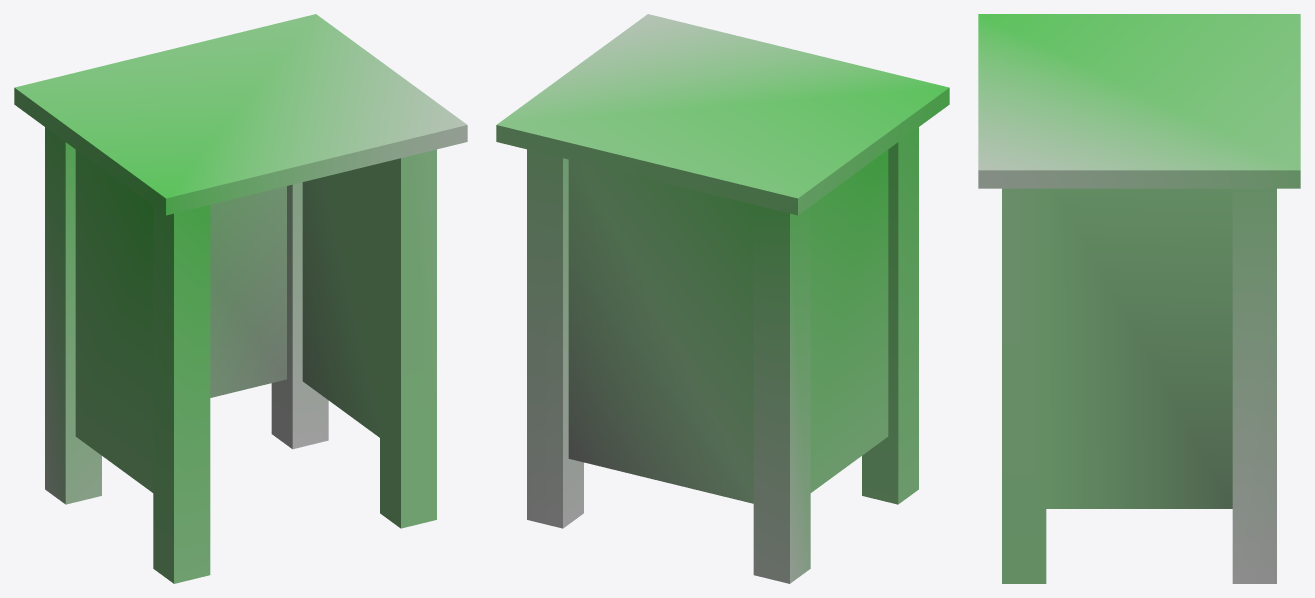
The model's file is Table_4.fbx.
3 views of the same model, side by side, from view 1: azimuth 30°, elevation 25°; view 2: azimuth 150°, elevation 25°; view 3: azimuth 270°, elevation 25° (orthographic). The views are drawn at different scales.
Parts seen in each view (by area): view 1: Table_4; view 2: Table_4; view 3: Table_4.
Part boxes in pixels (x1=…): Table_4: x1=14, y1=14, x2=467, y2=583; Table_4: x1=496, y1=14, x2=949, y2=583; Table_4: x1=978, y1=14, x2=1300, y2=583.
Bounding box in the file's own units: 0.7517 × 0.9487 × 0.6542.
